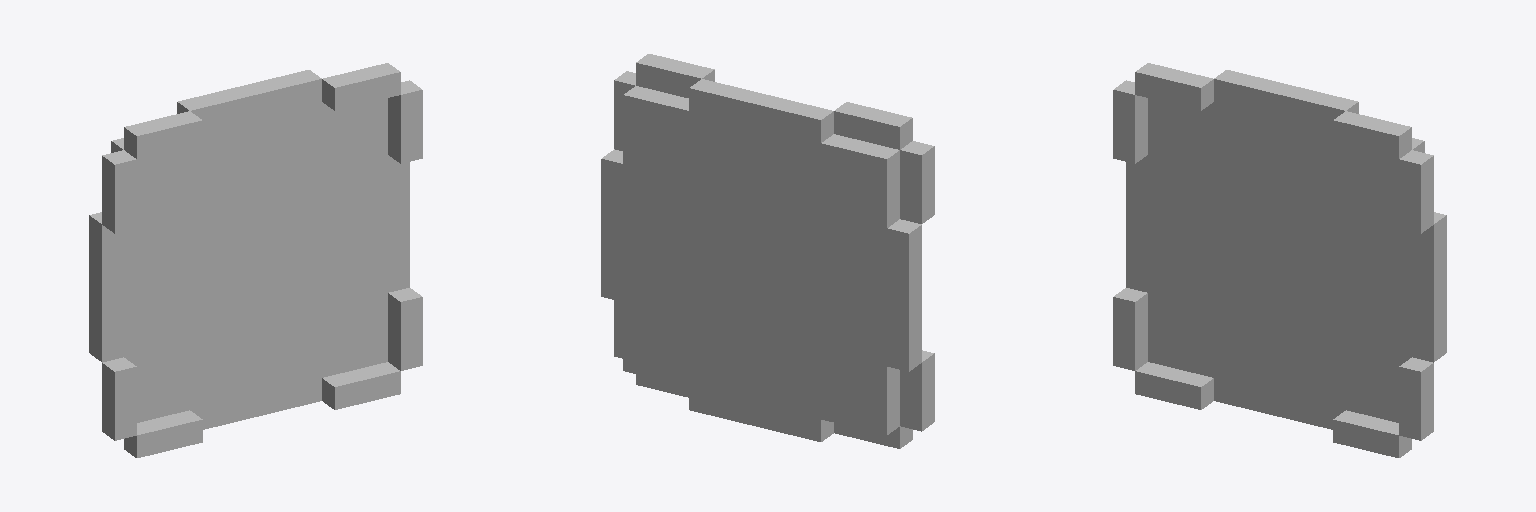
Rendered from side_zm.obj.
3 renders of one model, left to right at view 1: azimuth 30°, elevation 25°; view 2: azimuth 150°, elevation 25°; view 3: azimuth 330°, elevation 25°, orthographic.
Size of the model in its own units: 14 by 14 by 2.